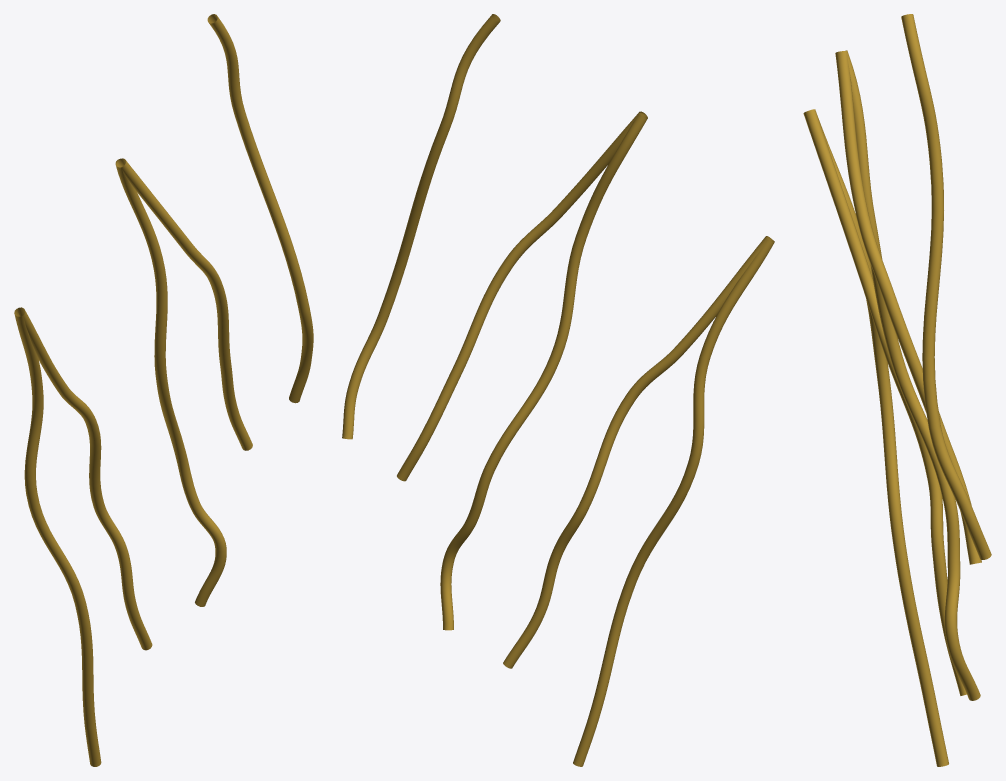
The picture shows the model from 3 angles, left to right: view 1: azimuth 30°, elevation 25°; view 2: azimuth 150°, elevation 25°; view 3: azimuth 270°, elevation 25°; orthographic projection. The views are drawn at different scales.
Parts seen in each view (by area): view 1: 左侧足底外侧神经趾足底固有神经; view 2: 左侧足底外侧神经趾足底固有神经; view 3: 左侧足底外侧神经趾足底固有神经.
Part boxes in pixels (left/top/right/bottom): 左侧足底外侧神经趾足底固有神经: left=14, top=14, right=313, bottom=766; 左侧足底外侧神经趾足底固有神经: left=342, top=14, right=774, bottom=766; 左侧足底外侧神经趾足底固有神经: left=803, top=14, right=991, bottom=766.
Size of the model in its own units: 0.0551 by 0.1056 by 0.0223.
